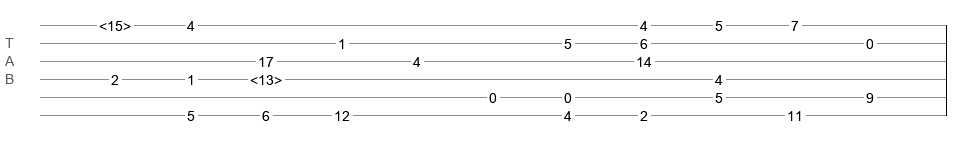0: (489, 90, 497, 100), (564, 90, 572, 100), (866, 36, 874, 46)
1: (187, 72, 195, 82), (338, 36, 346, 46)
11: (787, 108, 803, 118)
12: (334, 108, 350, 118)
14: (636, 54, 652, 64)
17: (258, 54, 274, 64)
2: (111, 72, 119, 82), (640, 108, 648, 118)
4: (187, 18, 195, 28), (413, 54, 421, 64), (564, 108, 572, 118), (640, 18, 648, 28), (715, 72, 723, 82)
5: (187, 108, 195, 118), (564, 36, 572, 46), (715, 18, 723, 28), (715, 90, 723, 100)
6: (262, 108, 270, 118), (640, 36, 648, 46)
7: (791, 18, 799, 28)
9: (866, 90, 874, 100)
harmonic: (99, 18, 131, 28), (250, 72, 282, 82)
